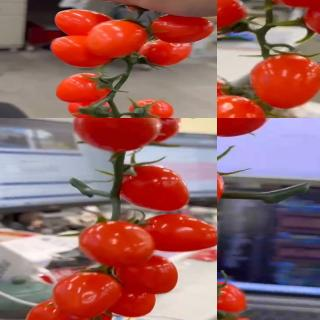tomato: (251, 56, 320, 111), (80, 221, 158, 268), (120, 163, 190, 213), (52, 270, 123, 318), (144, 214, 217, 255), (73, 118, 163, 151), (113, 254, 179, 296), (84, 20, 148, 60), (51, 33, 114, 69), (149, 14, 214, 46), (56, 72, 113, 104), (56, 10, 119, 38), (136, 39, 194, 65), (25, 299, 92, 320), (217, 94, 265, 118), (217, 0, 250, 34), (128, 97, 176, 118), (217, 283, 247, 316), (64, 98, 111, 118), (217, 77, 233, 110)
